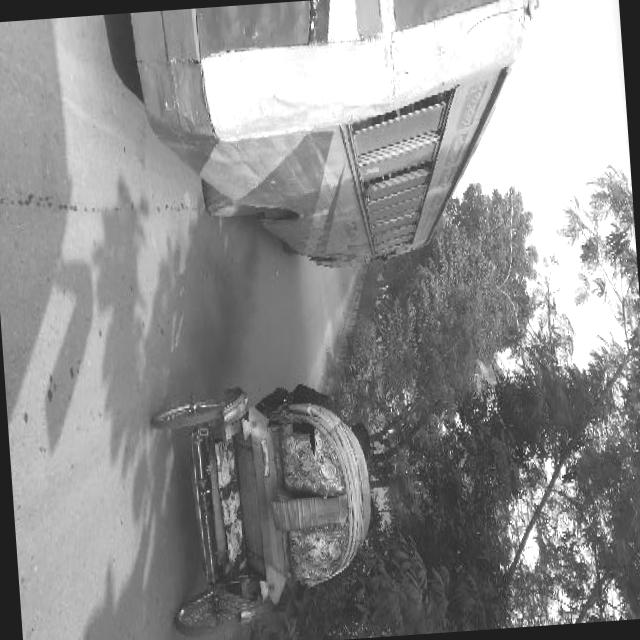bus: (112, 0, 543, 283)
motorcycle: (142, 377, 382, 638)
